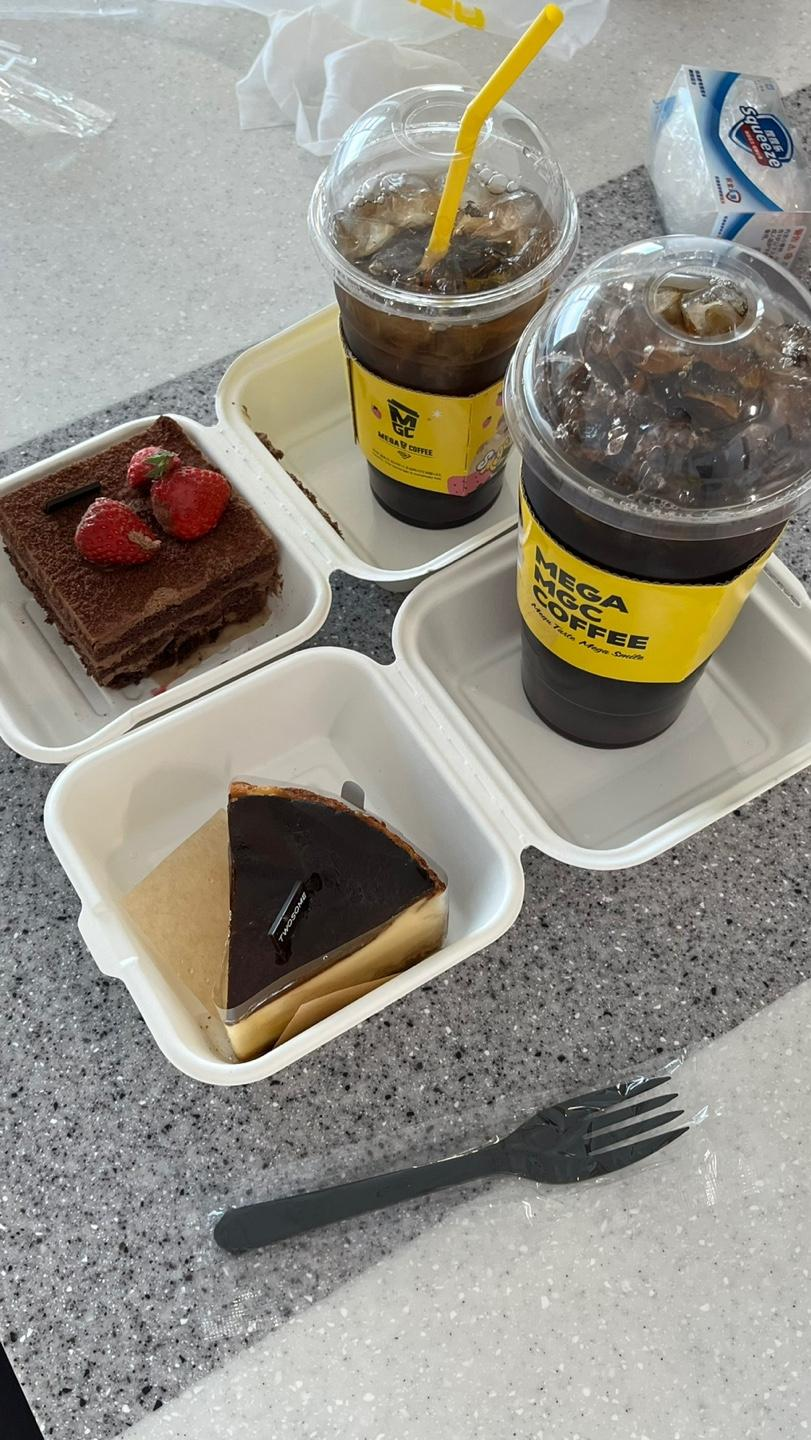Bottle: (506, 236, 810, 747), (309, 87, 577, 527)
Lunch Box: (44, 533, 810, 1085), (0, 308, 516, 762)
